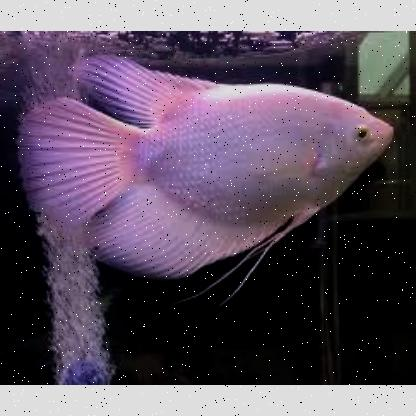gurame: (24, 66, 390, 268)
